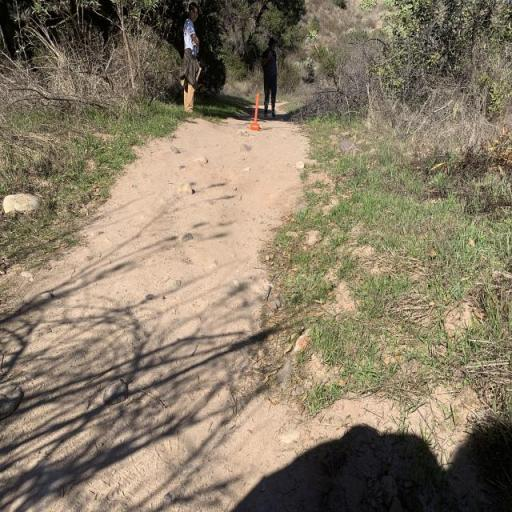mallet: (250, 93, 260, 131)
